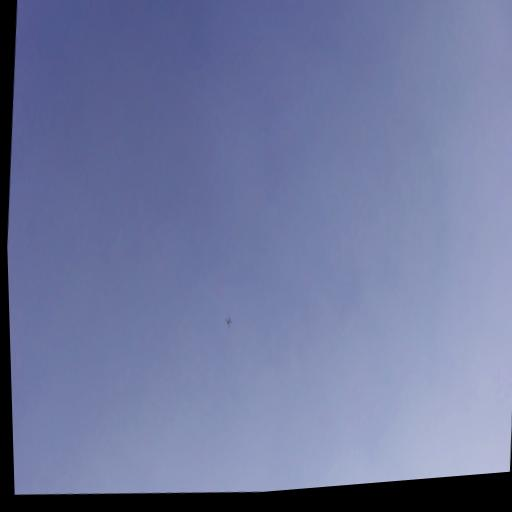drones: (224, 314, 233, 331)
